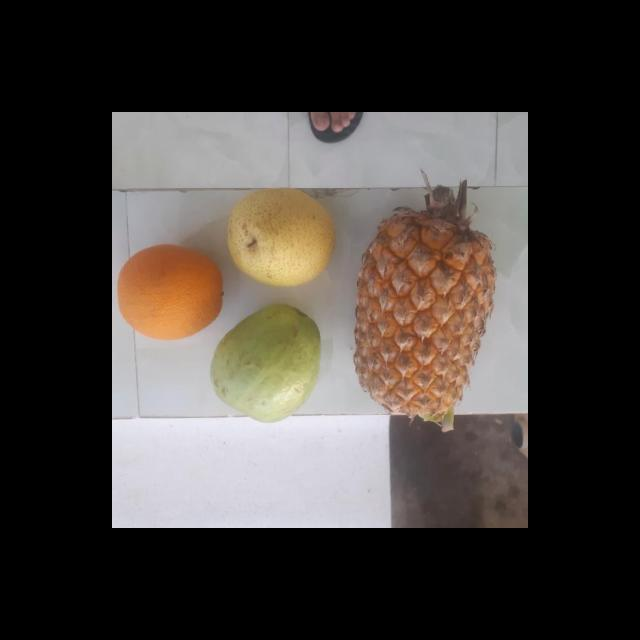guava: (210, 306, 327, 418)
orange: (115, 242, 224, 342)
pear: (223, 188, 340, 286)
pineapple: (362, 217, 494, 420)
